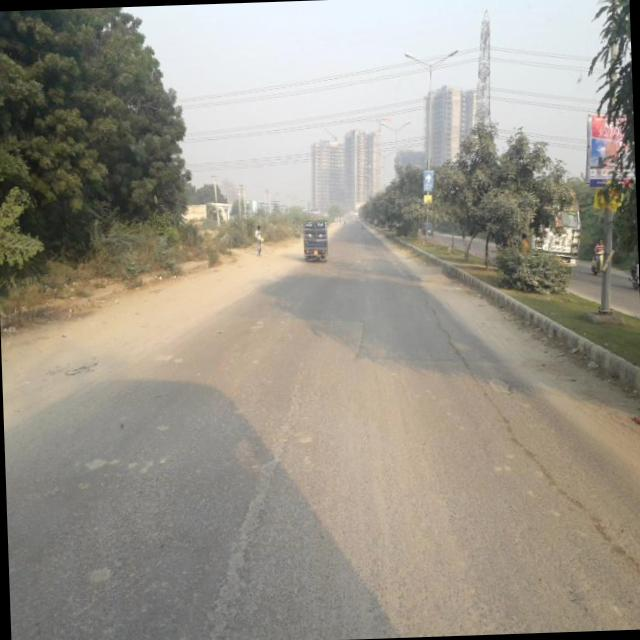crack: (208, 364, 316, 632)
